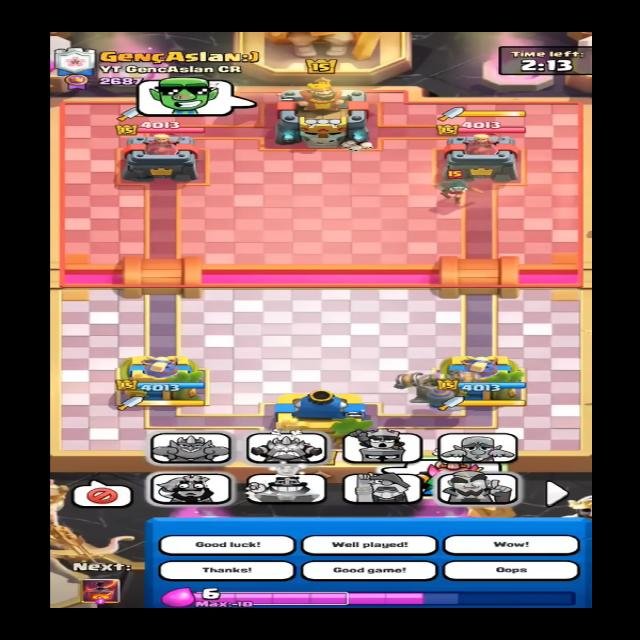bandit: (420, 167, 488, 205)
